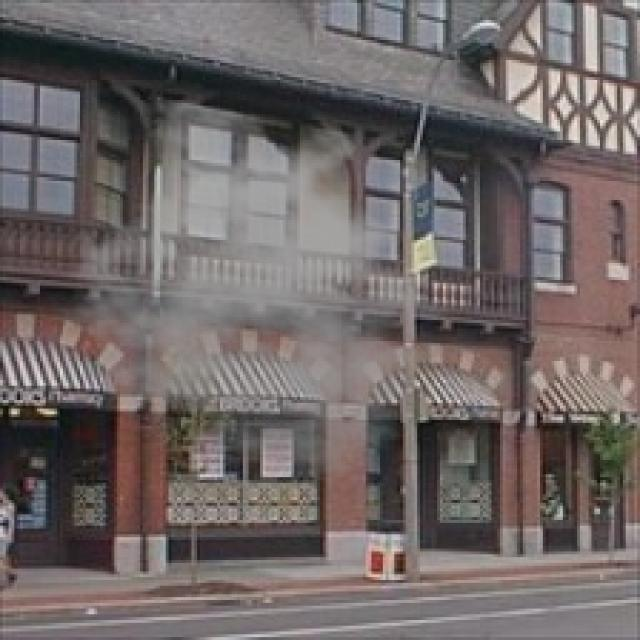Smoke: (51, 97, 468, 483)
